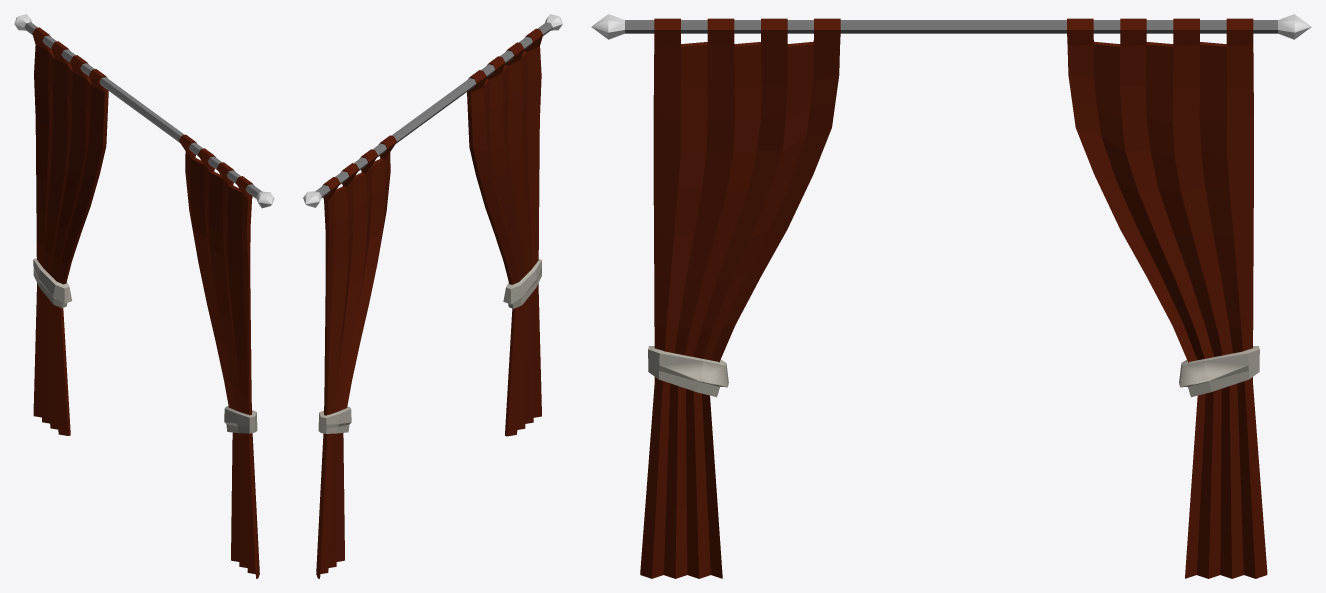
Rendered from SM_curtains_02.glb.
The picture shows the model from 3 angles, left to right: view 1: azimuth 30°, elevation 25°; view 2: azimuth 150°, elevation 25°; view 3: azimuth 270°, elevation 25°; orthographic projection. The views are drawn at different scales.
Visible parts, largest first — view 1: SM_curtains_02; view 2: SM_curtains_02; view 3: SM_curtains_02.
Boxes of the visible parts, bbox=[...] form: SM_curtains_02: bbox=[14, 14, 274, 578]; SM_curtains_02: bbox=[303, 14, 562, 578]; SM_curtains_02: bbox=[591, 14, 1311, 578].
Bounding box in the file's own units: 0.1373 × 2.63 × 3.09.
2 materials, 1 textured.
